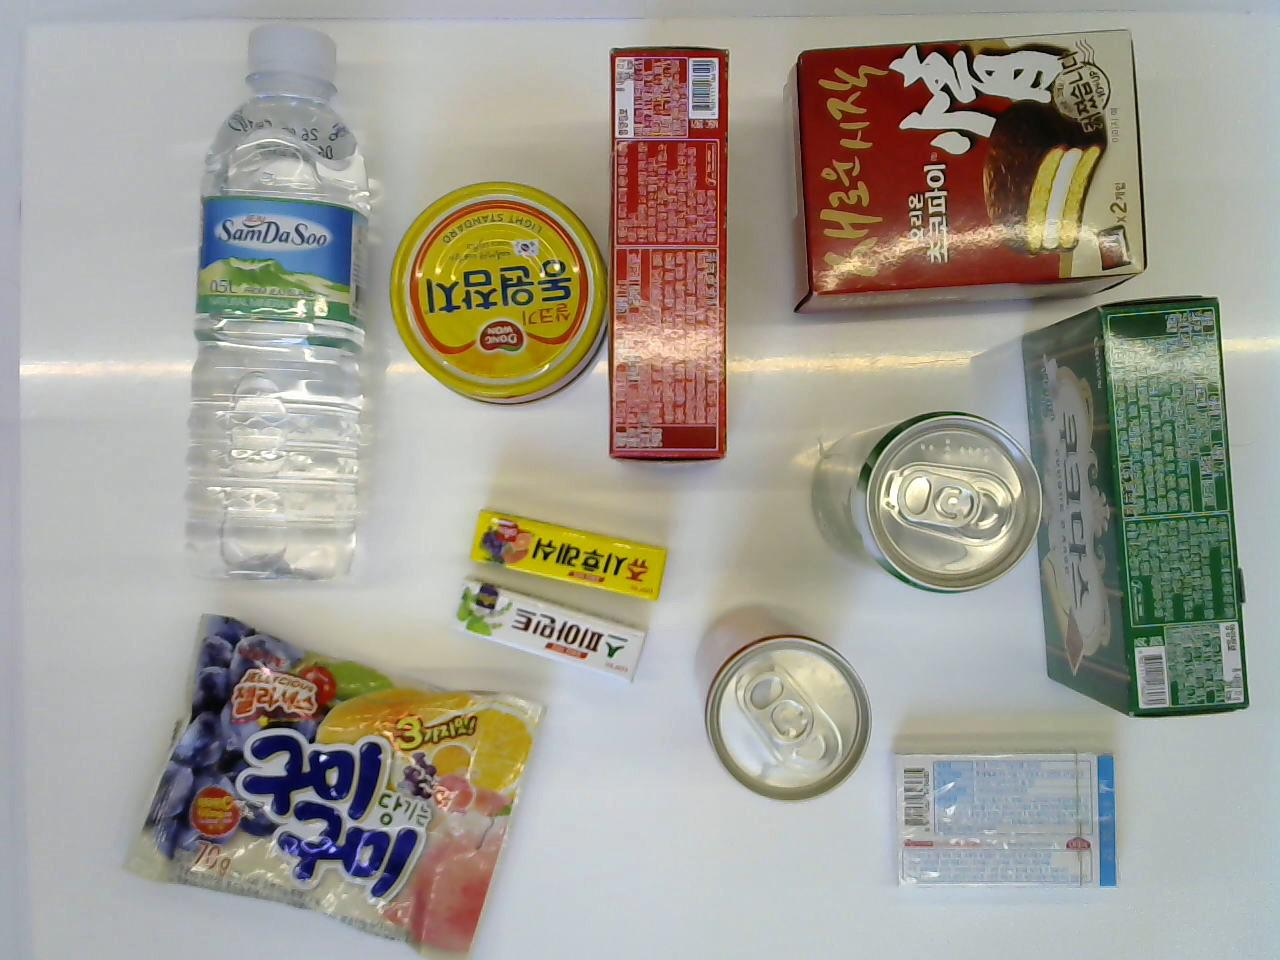ID_gum: (884, 741, 1123, 897)
chocopie: (765, 18, 1155, 320), (1018, 292, 1253, 724)
cidar: (808, 412, 1044, 594)
coke: (688, 600, 881, 814)
couque_coffee: (1018, 292, 1253, 724)
couque_white: (597, 34, 737, 473)
gumi_gumi: (106, 606, 541, 960)
juicyfresh: (466, 497, 671, 607)
samdasu: (176, 16, 386, 592)
spearmint: (449, 566, 661, 690)
tuna: (387, 173, 613, 413)
